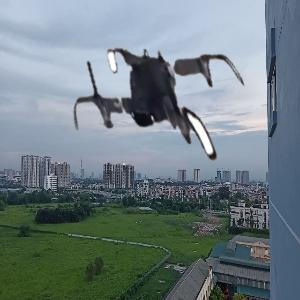drone: (68, 20, 254, 206)
